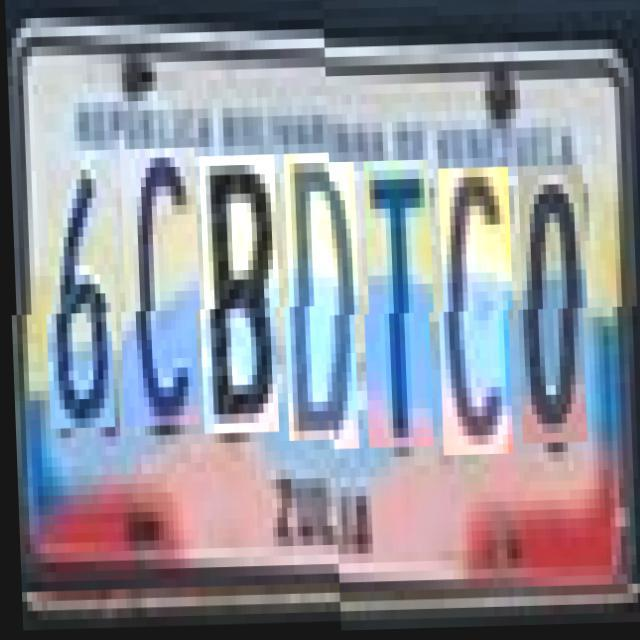6: (45, 170, 117, 438)
B: (198, 166, 281, 444)
C: (119, 158, 202, 437), (437, 170, 515, 458)
D: (282, 164, 360, 452)
O: (516, 168, 590, 447)
T: (362, 162, 435, 450)
